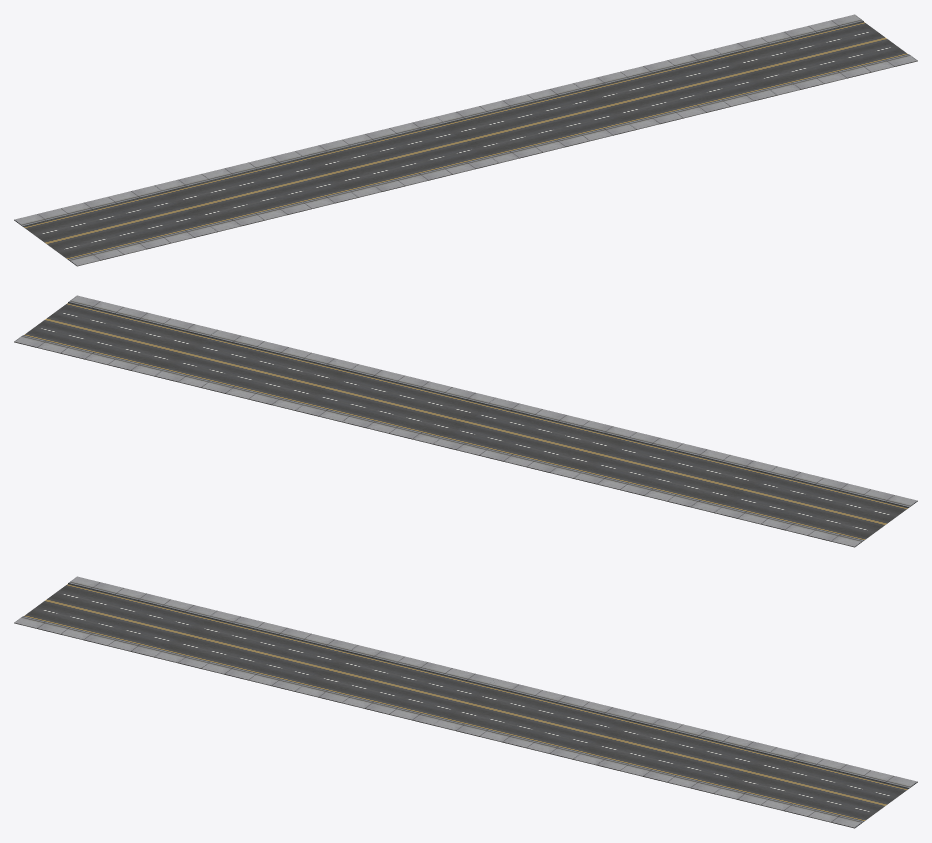
File: straightroad.gltf
3 renders of one model, top to bottom at view 1: azimuth 30°, elevation 25°; view 2: azimuth 150°, elevation 25°; view 3: azimuth 330°, elevation 25°, orthographic.
Parts seen in each view (by area): view 1: Road_1X_Straight_City_Road_mat_0.003, Road_1X_Straight; view 2: Road_1X_Straight_City_Road_mat_0.003, Road_1X_Straight; view 3: Road_1X_Straight, Road_1X_Straight_City_Road_mat_0.003.
Part boxes in pixels (left/top/right/bottom): Road_1X_Straight_City_Road_mat_0.003: left=436, top=14, right=917, bottom=163; Road_1X_Straight: left=14, top=116, right=499, bottom=266; Road_1X_Straight_City_Road_mat_0.003: left=14, top=295, right=495, bottom=444; Road_1X_Straight: left=433, top=397, right=917, bottom=547; Road_1X_Straight: left=14, top=576, right=497, bottom=725; Road_1X_Straight_City_Road_mat_0.003: left=433, top=678, right=917, bottom=828.
Bounding box in the file's own units: 291 × 0.2045 × 37.92.
1 material, 1 textured.
